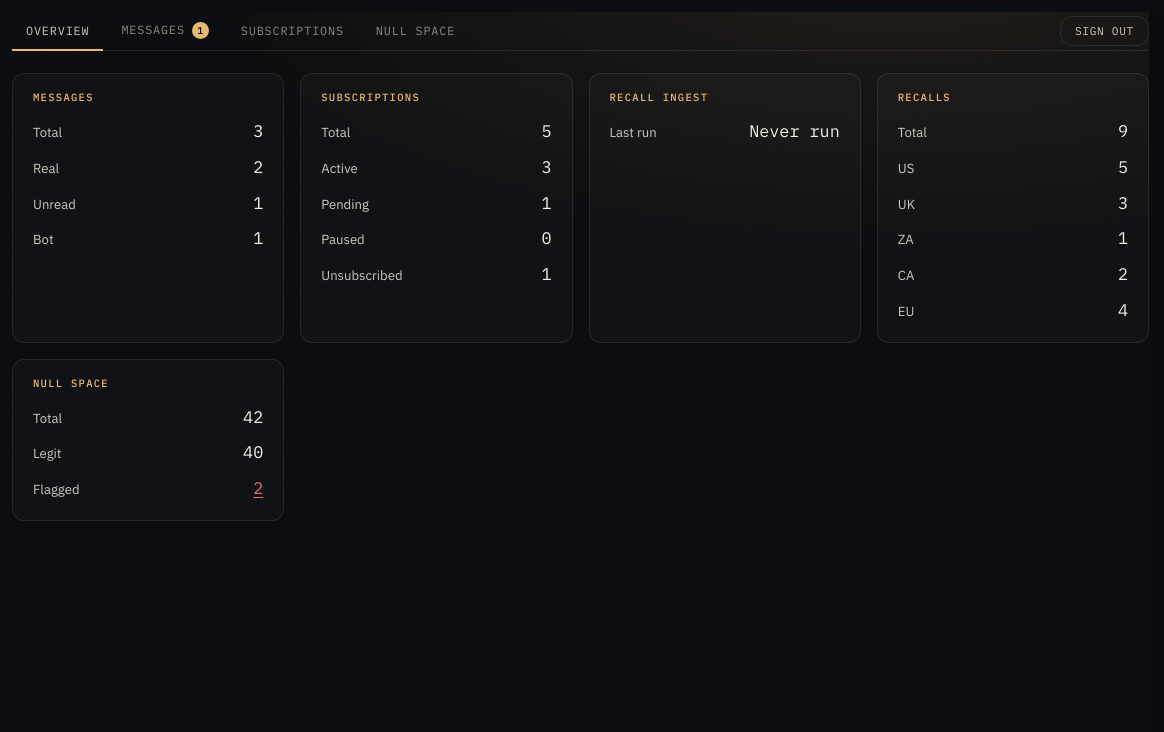
Test: AdminShell tab navigation › deep-links the flagged count to a pre-filtered Null Space view
This screenshot has width=1164, height=732.
Click the button "2".
click(258, 489)  # box [253, 475, 263, 502]
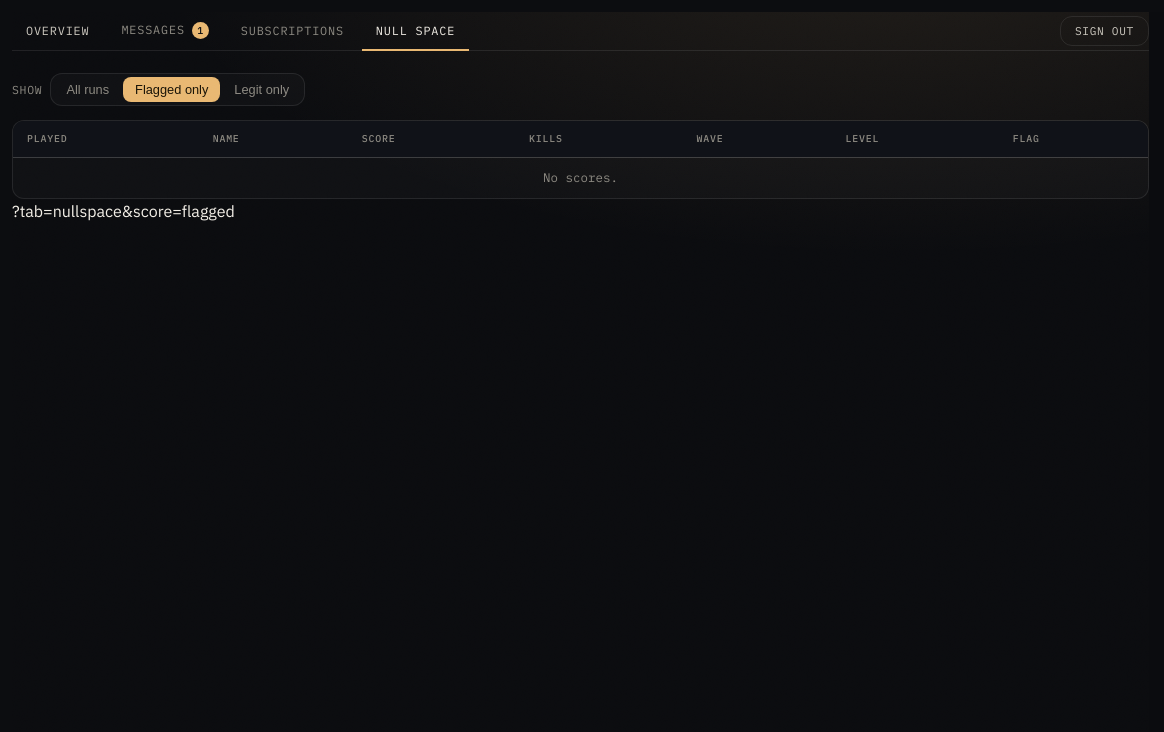
Expected: the text with test id "search" shows "tab=nullspace", [12, 201, 235, 221]
Expected: the text with test id "search" shows "score=flagged", [12, 201, 235, 221]
